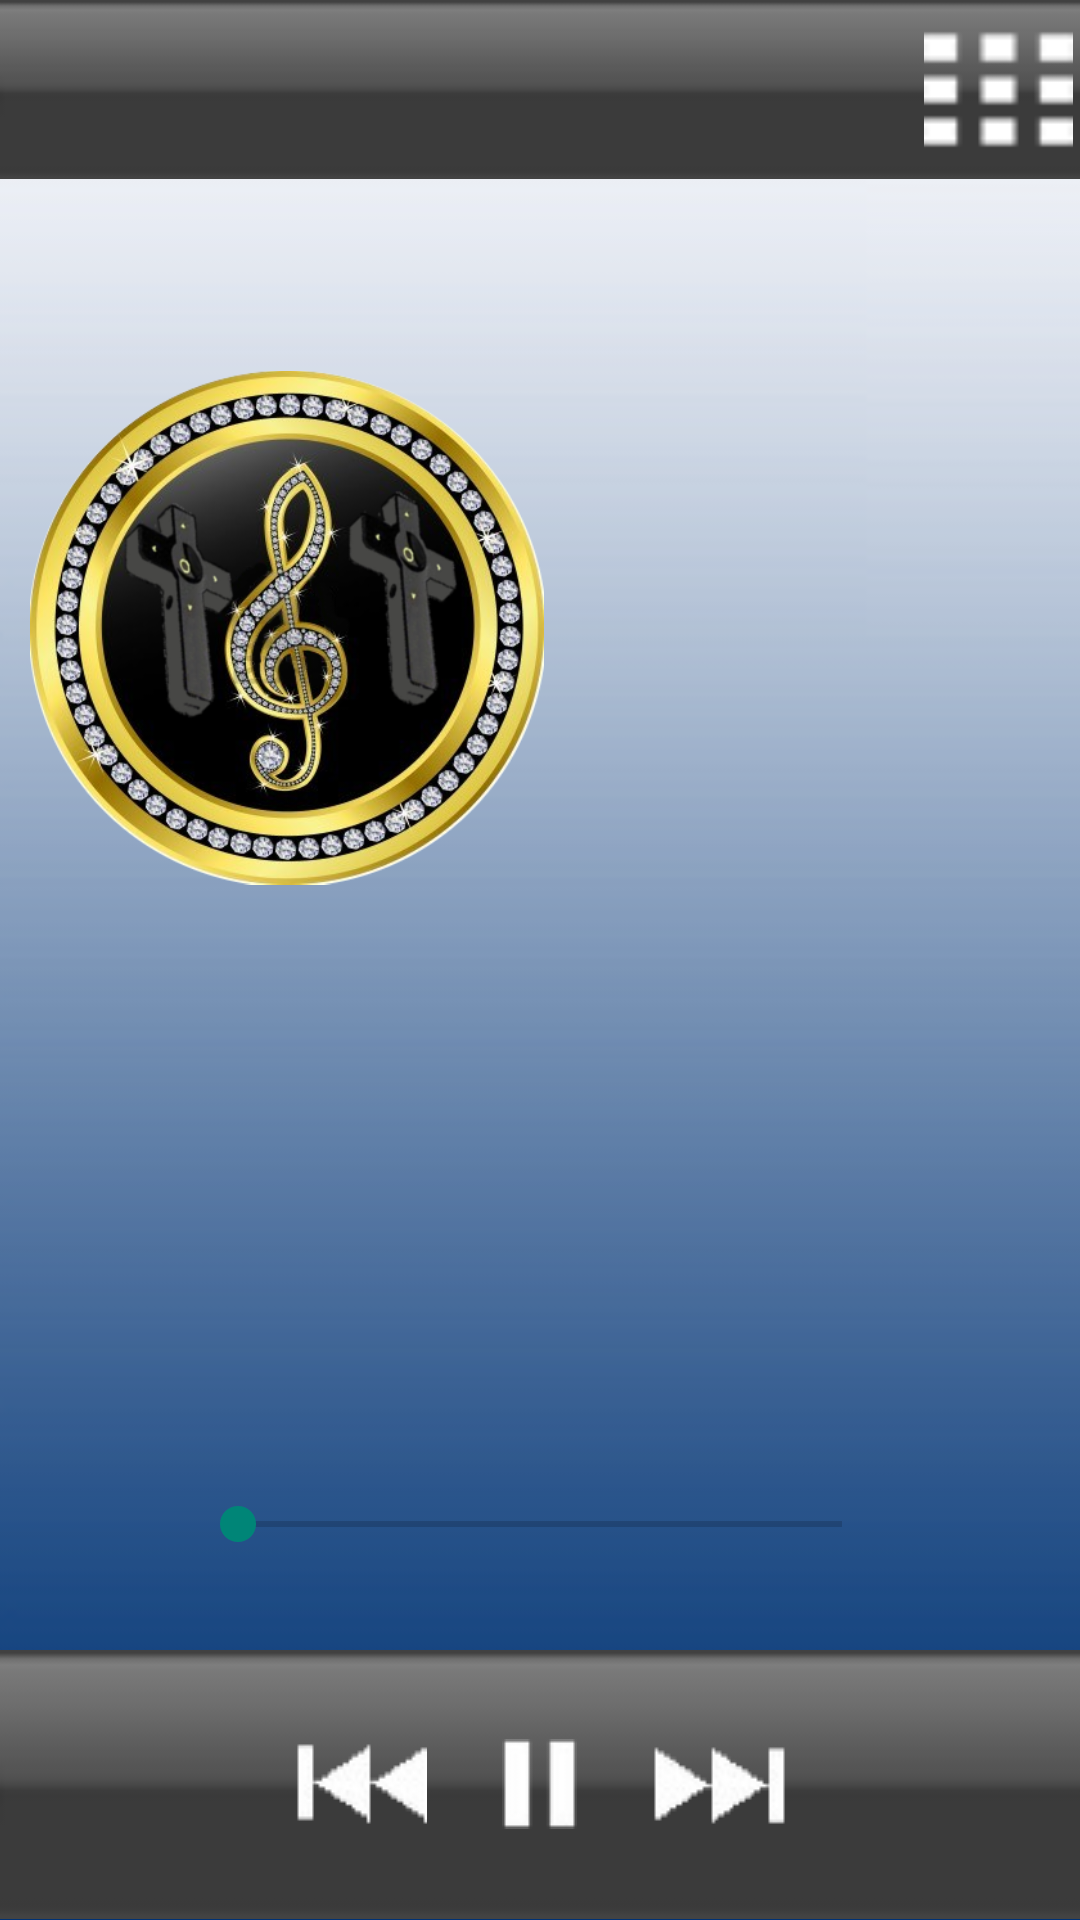

Where to tap for icons on this 1080 x 1920 app screen, as point (x, y):
menu: point (998, 89)
next: point (719, 1784)
pause: point (539, 1784)
previous: point (359, 1784)
